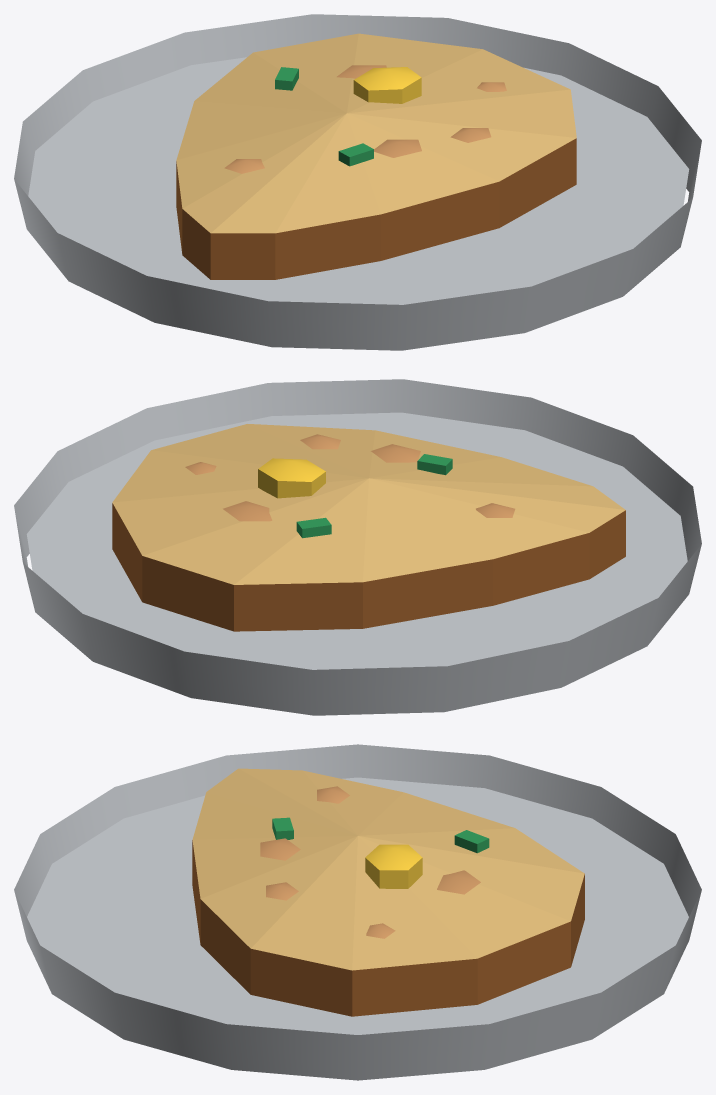
Rendered from pass_naan.glb.
The picture shows the model from 3 angles, top to bottom: view 1: azimuth 30°, elevation 25°; view 2: azimuth 150°, elevation 25°; view 3: azimuth 270°, elevation 25°; orthographic projection.
Visible parts, largest first — view 1: pass_naan; view 2: pass_naan; view 3: pass_naan.
Boxes of the visible parts, <box> form: pass_naan: <box>14,14,701,350</box>; pass_naan: <box>14,379,701,715</box>; pass_naan: <box>14,744,701,1080</box>.
Size of the model in its own units: 0.27 by 0.05 by 0.27.
Materials: 1 (1 with a texture image).
